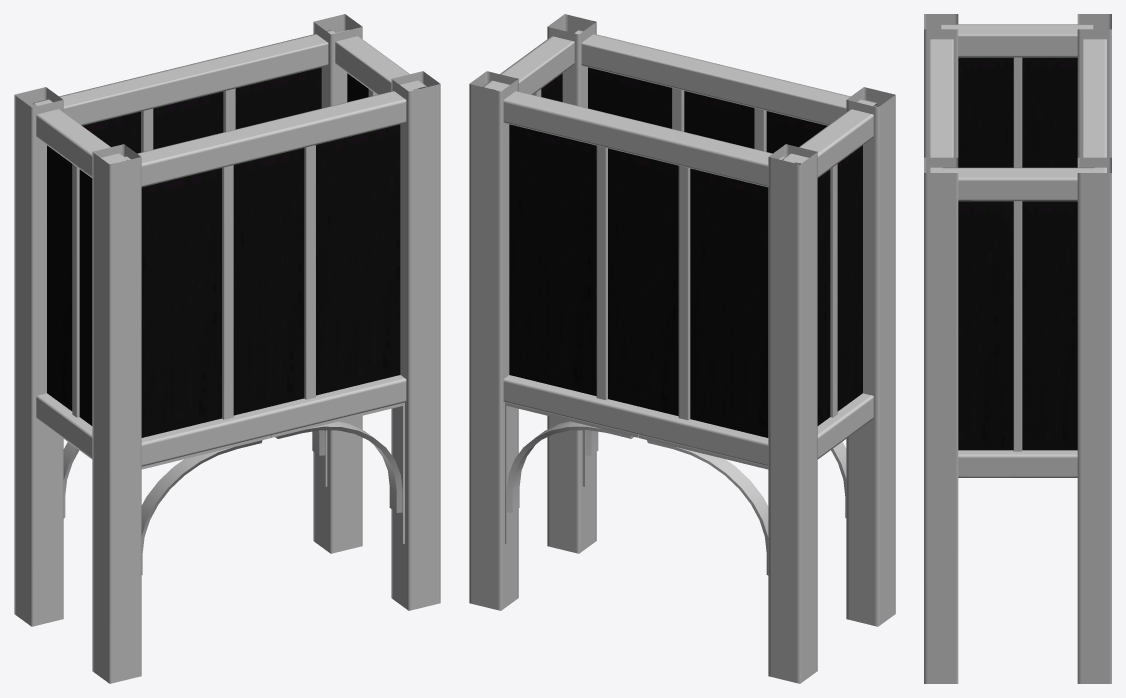
The model's file is tesla_dressing_cage_01.dae.
The picture shows the model from 3 angles, left to right: view 1: azimuth 30°, elevation 25°; view 2: azimuth 150°, elevation 25°; view 3: azimuth 270°, elevation 25°; orthographic projection.
Visible parts, largest first — view 1: polySurface34, polySurface33; view 2: polySurface34, polySurface33; view 3: polySurface34, polySurface33.
Part boxes in pixels (x1,y1,x2,y2): polySurface34: (14, 14, 440, 683); polySurface33: (47, 67, 400, 437); polySurface34: (469, 14, 895, 683); polySurface33: (509, 67, 862, 437); polySurface34: (924, 14, 1111, 683); polySurface33: (958, 57, 1077, 450).
Bounding box in the file's own units: 4000 × 6000 × 2000.
